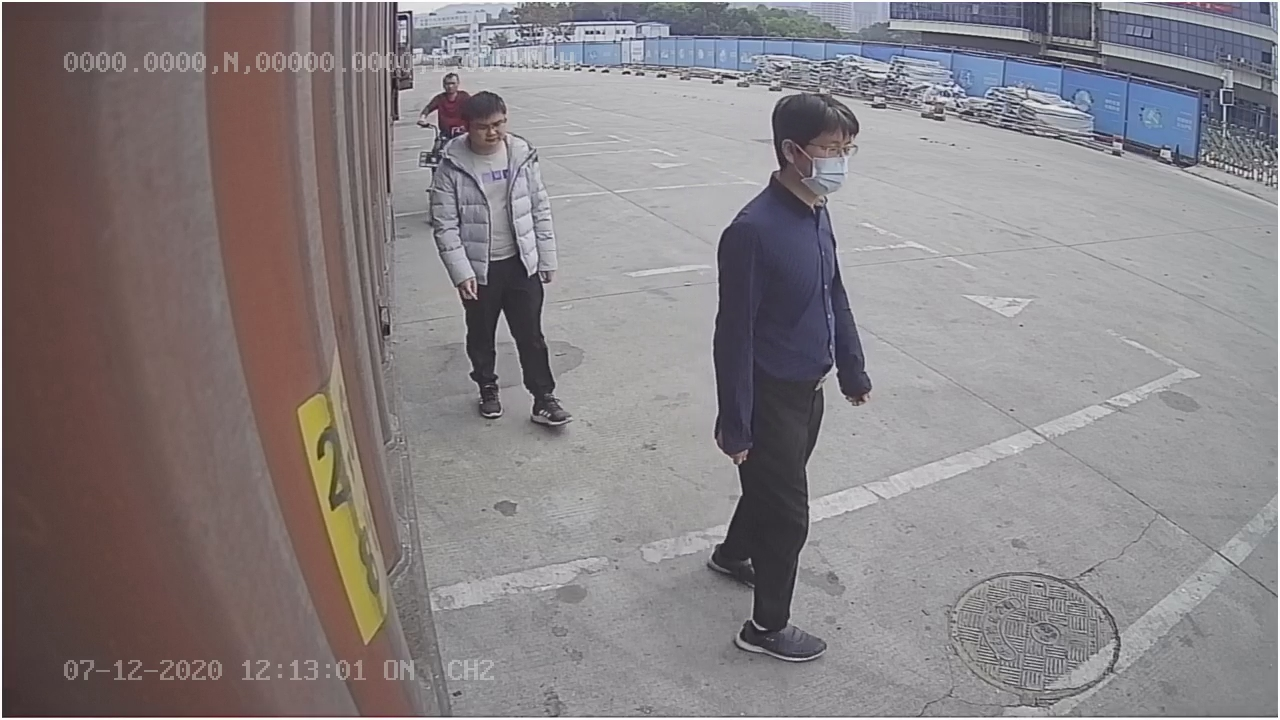person: (706, 84, 870, 662)
